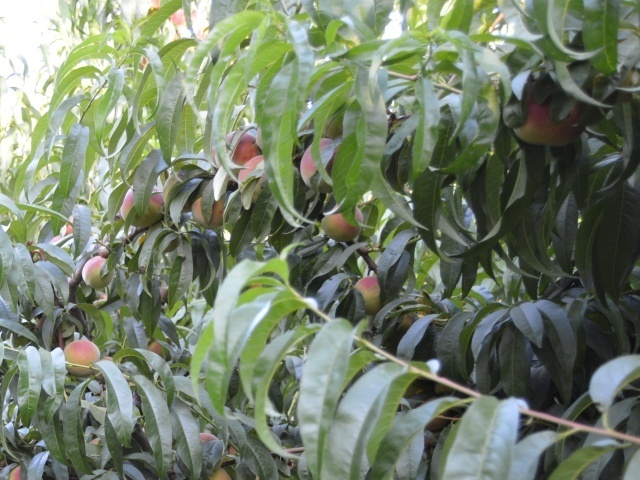peach: (506, 83, 588, 152), (296, 132, 346, 193), (115, 181, 169, 232), (317, 205, 368, 244), (218, 127, 266, 168), (233, 154, 268, 204), (59, 338, 102, 378), (189, 192, 230, 233), (349, 272, 387, 314), (81, 254, 119, 293)
